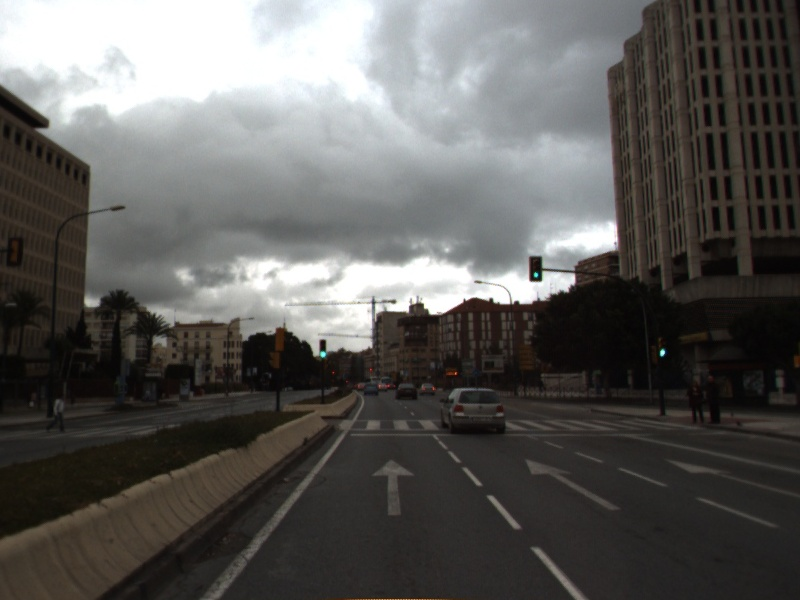STRAIGHT: (523, 457, 625, 513), (664, 457, 800, 498), (369, 457, 418, 518)
